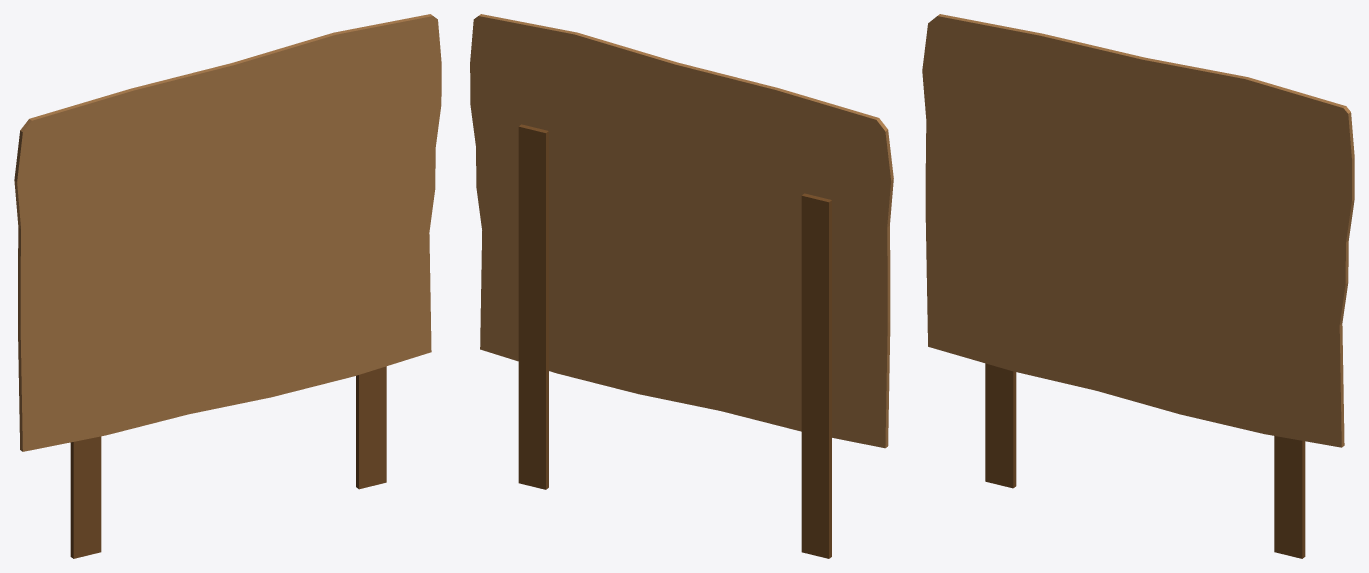
Rendered from WoodSign.fbx.
The picture shows the model from 3 angles, left to right: view 1: azimuth 30°, elevation 25°; view 2: azimuth 150°, elevation 25°; view 3: azimuth 330°, elevation 25°; orthographic projection. The views are drawn at different scales.
Visible parts, largest first — view 1: Sign8.002; view 2: Sign8.002; view 3: Sign8.002.
Boxes of the visible parts, x1=… form: Sign8.002: x1=14, y1=14, x2=441, y2=558; Sign8.002: x1=470, y1=14, x2=893, y2=558; Sign8.002: x1=922, y1=14, x2=1354, y2=558.
Size of the model in its own units: 245 by 255 by 5.93.
